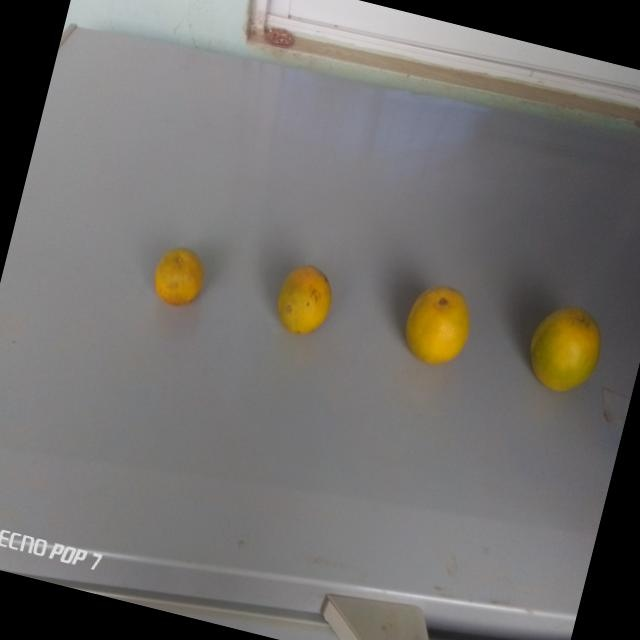agrume: (518, 289, 614, 407), (392, 268, 483, 381), (266, 254, 345, 347), (144, 231, 210, 318)
